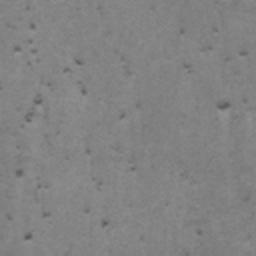Oxide scale of temperature system: (14, 56, 132, 240), (229, 139, 252, 203), (182, 44, 213, 74), (184, 219, 208, 227), (216, 101, 232, 110), (239, 47, 249, 56)
